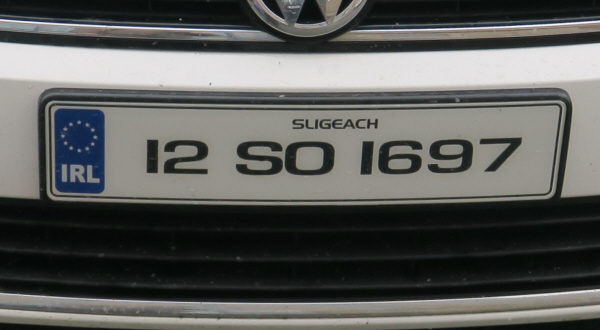license_plate: (44, 100, 565, 203)
